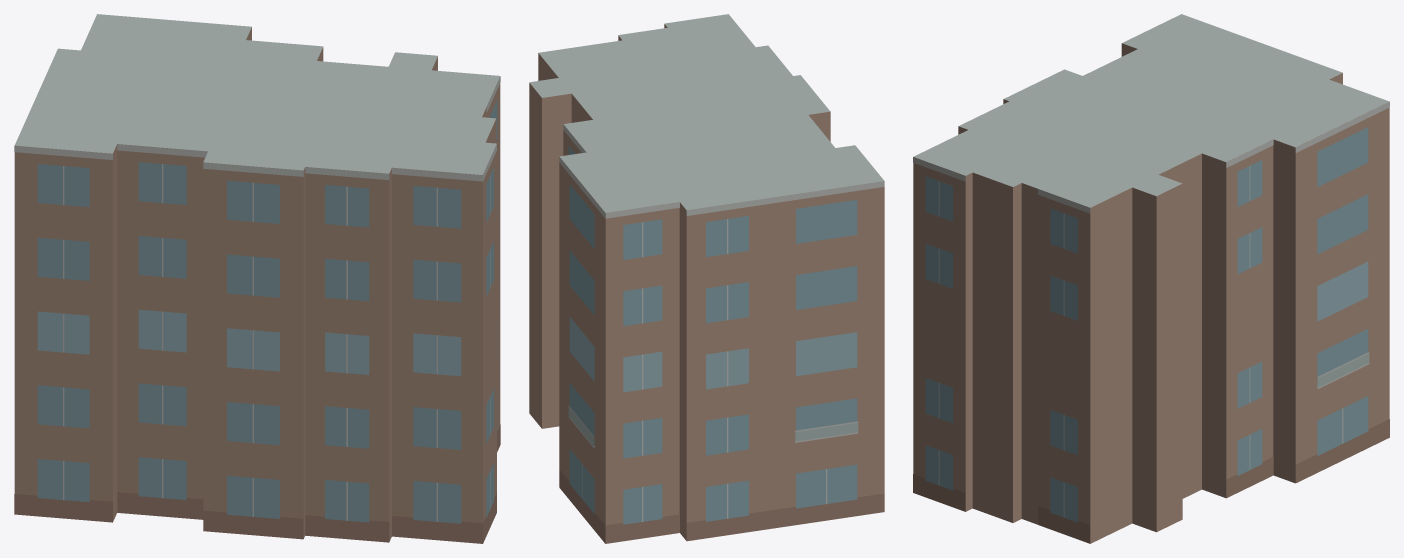
File: survey-upis-32758160.glb
The picture shows the model from 3 angles, left to right: view 1: azimuth 30°, elevation 25°; view 2: azimuth 150°, elevation 25°; view 3: azimuth 270°, elevation 25°; orthographic projection. The views are drawn at different scales.
Parts seen in each view (by area): view 1: survey-upis-32758160.tmp; view 2: survey-upis-32758160.tmp; view 3: survey-upis-32758160.tmp.
Boxes of the visible parts, left/top/right/bottom form: survey-upis-32758160.tmp: left=14, top=14, right=500, bottom=543; survey-upis-32758160.tmp: left=529, top=14, right=884, bottom=543; survey-upis-32758160.tmp: left=913, top=14, right=1389, bottom=543.
Bounding box in the file's own units: 17.25 × 13.94 × 17.92.
